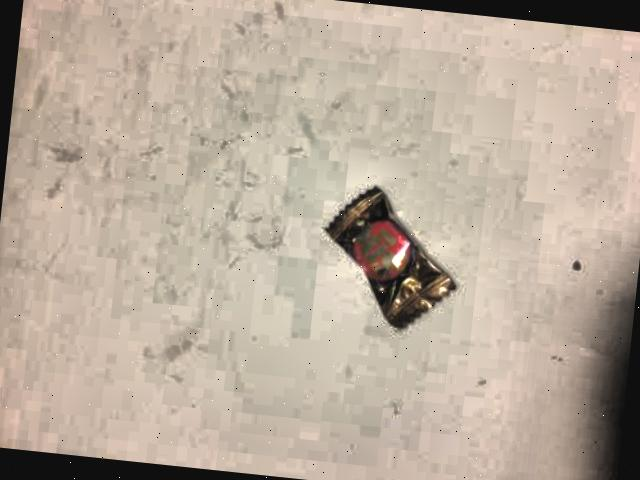Plastic: (306, 174, 474, 347)
